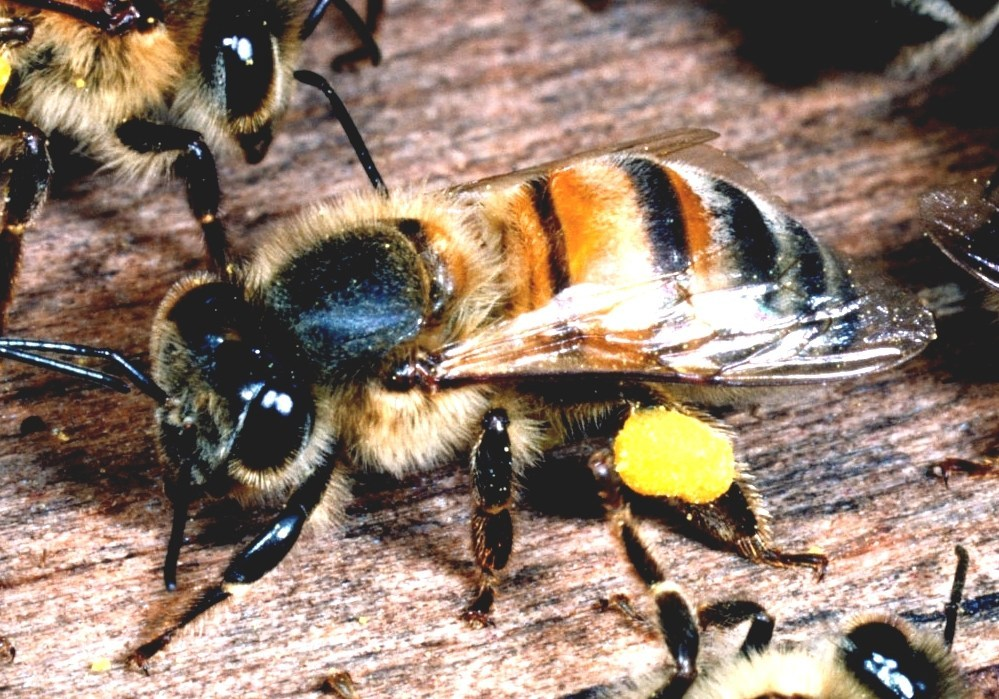Africanized Honey Bee: (2, 117, 943, 699)
